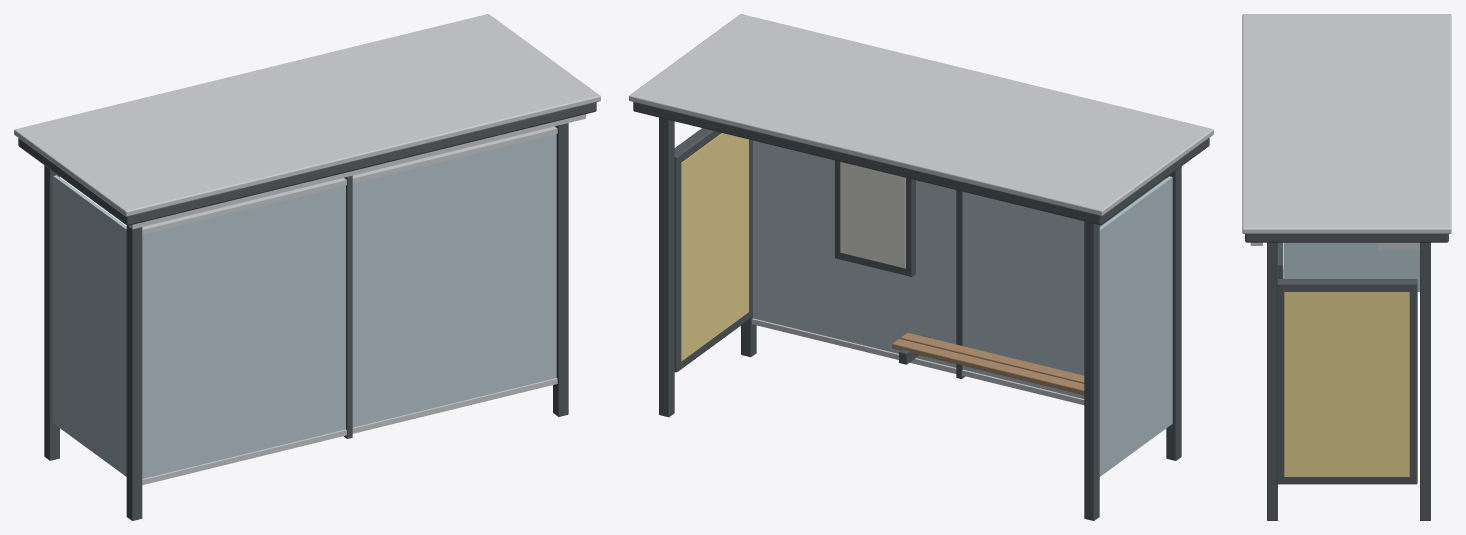
The model's file is bus_shelter.glb.
The picture shows the model from 3 angles, left to right: view 1: azimuth 30°, elevation 25°; view 2: azimuth 150°, elevation 25°; view 3: azimuth 270°, elevation 25°; orthographic projection. The views are drawn at different scales.
Visible parts, largest first — view 1: bus_shelter; view 2: bus_shelter; view 3: bus_shelter.
Boxes of the visible parts, bbox=[...] form: bus_shelter: bbox=[14, 14, 600, 520]; bus_shelter: bbox=[629, 14, 1213, 520]; bus_shelter: bbox=[1242, 14, 1451, 520].
Bounding box in the file's own units: 3.9 × 2.54 × 1.6.
